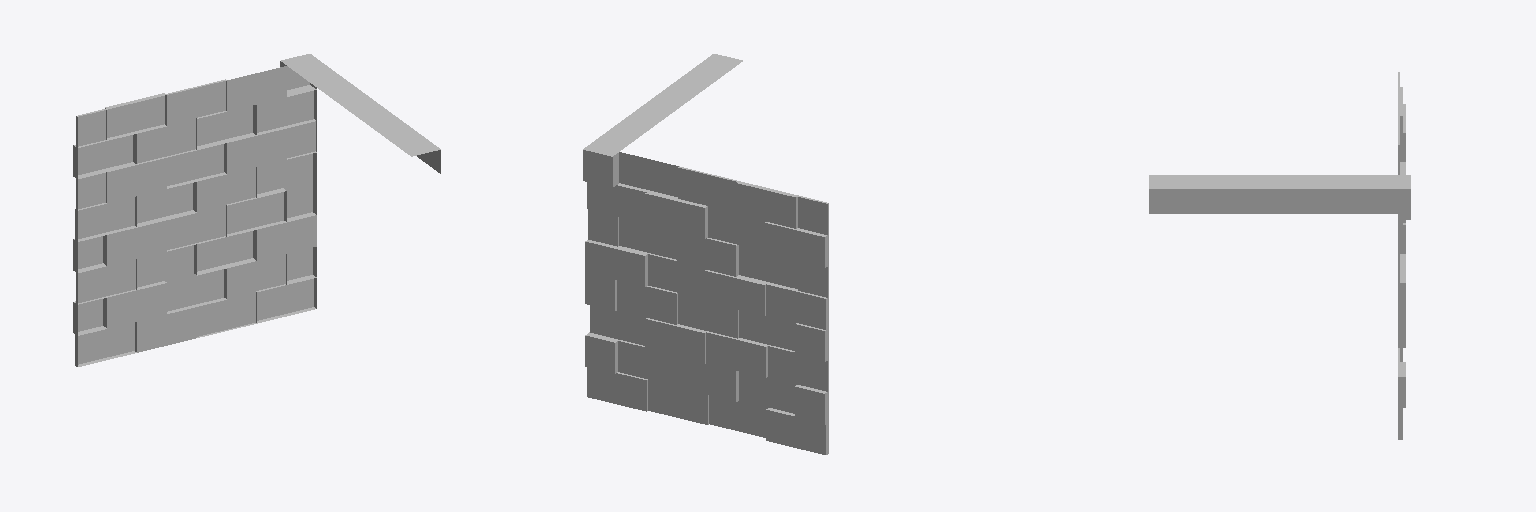
Rendered from Straight_Edge_Wall_Roof_Left.obj.
3 views of the same model, side by side, from view 1: azimuth 30°, elevation 25°; view 2: azimuth 150°, elevation 25°; view 3: azimuth 270°, elevation 25° (orthographic).
Parts seen in each view (by area): view 1: Straight_Edge_Wall_Roof_Left; view 2: Straight_Edge_Wall_Roof_Left; view 3: Straight_Edge_Wall_Roof_Left.
Boxes of the visible parts, x1=… form: Straight_Edge_Wall_Roof_Left: x1=73, y1=54, x2=440, y2=366; Straight_Edge_Wall_Roof_Left: x1=583, y1=54, x2=828, y2=454; Straight_Edge_Wall_Roof_Left: x1=1149, y1=72, x2=1410, y2=439.
Bounding box in the file's own units: 1 × 1 × 0.95.